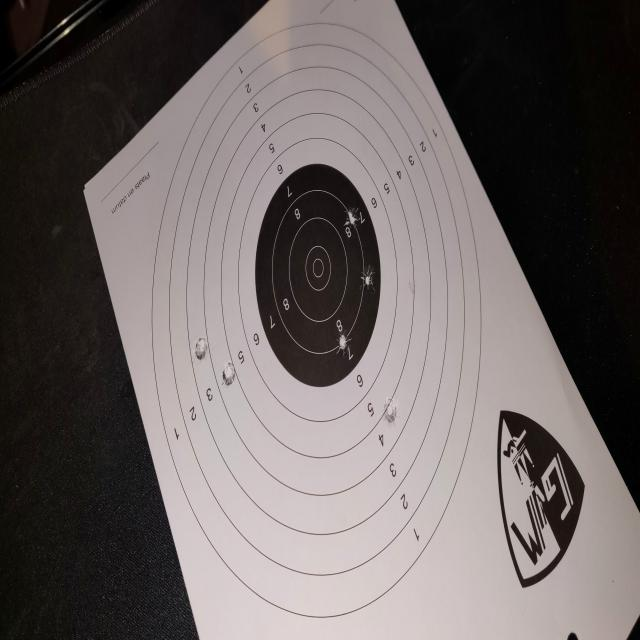3: (194, 336, 207, 365)
4: (222, 360, 236, 390)
5: (383, 394, 398, 424)
8: (336, 329, 351, 356), (362, 267, 376, 294), (345, 207, 357, 230)
Target: (151, 22, 483, 620)
black_contour: (255, 165, 381, 388)
